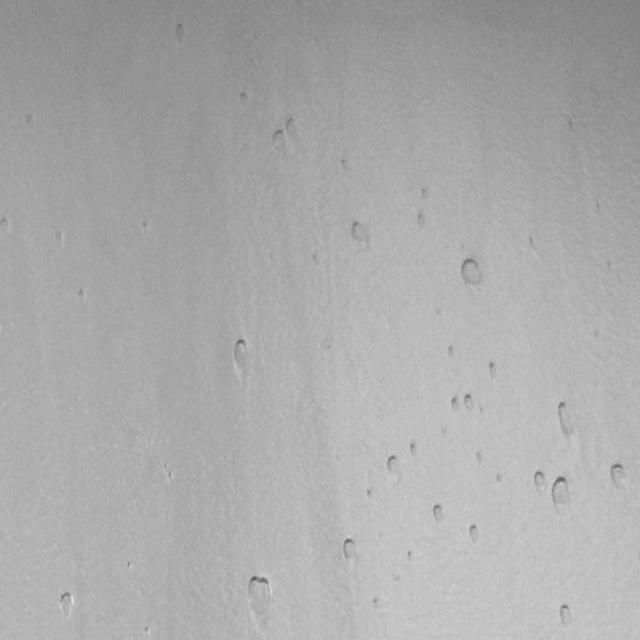pin holes: (239, 571, 278, 629), (552, 399, 579, 438), (549, 475, 574, 512), (457, 256, 485, 289), (229, 336, 252, 373), (608, 459, 632, 492), (54, 590, 78, 622), (348, 218, 373, 246), (268, 129, 292, 156), (340, 536, 361, 564), (556, 602, 578, 628), (170, 20, 190, 48), (532, 471, 550, 499), (428, 501, 447, 526), (462, 390, 479, 416), (386, 454, 404, 478), (72, 284, 90, 308), (160, 462, 178, 486), (50, 228, 68, 251), (309, 247, 325, 271), (337, 155, 354, 177), (466, 524, 482, 547), (485, 360, 501, 382), (447, 394, 463, 416), (0, 214, 14, 239), (284, 115, 300, 136), (414, 210, 428, 233), (237, 89, 253, 109), (407, 440, 423, 459), (24, 113, 38, 133), (417, 186, 432, 204), (473, 448, 488, 466), (525, 233, 539, 251), (370, 594, 385, 609), (445, 343, 458, 359), (495, 472, 508, 488), (140, 624, 153, 639), (405, 548, 417, 564), (139, 219, 150, 234), (366, 487, 377, 501)
